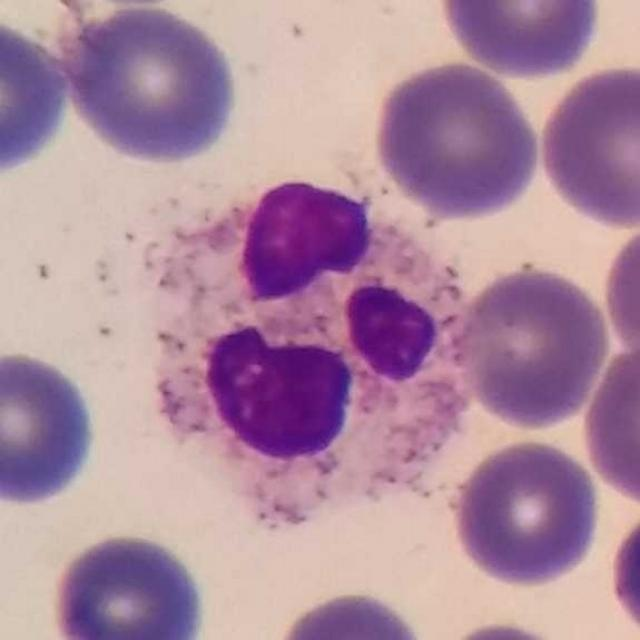Neutrophil: (136, 180, 477, 520)
RBC: (58, 1, 244, 169), (368, 56, 546, 222), (451, 261, 613, 432), (446, 435, 606, 591), (45, 525, 214, 640), (534, 60, 640, 232), (0, 345, 105, 512), (431, 0, 606, 81), (0, 11, 75, 184), (579, 337, 640, 509), (269, 585, 432, 640), (599, 216, 640, 365), (603, 500, 640, 639), (434, 616, 575, 640)
